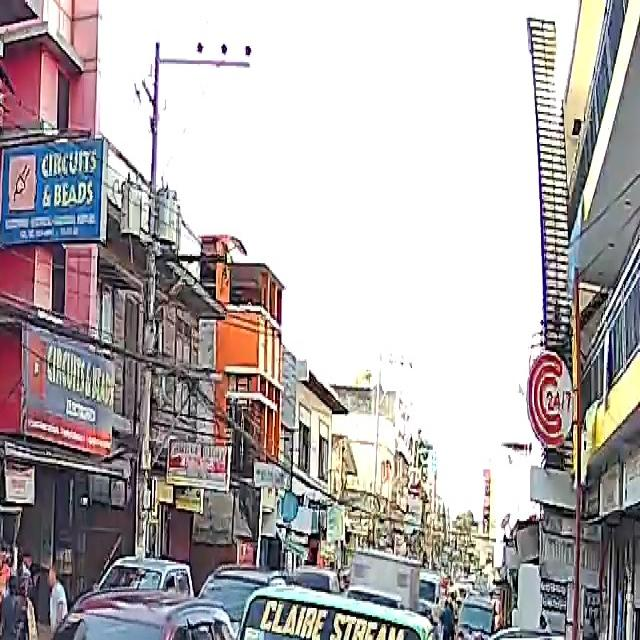car: (0, 594, 235, 640), (79, 555, 196, 610), (199, 571, 276, 624), (468, 634, 640, 640)
